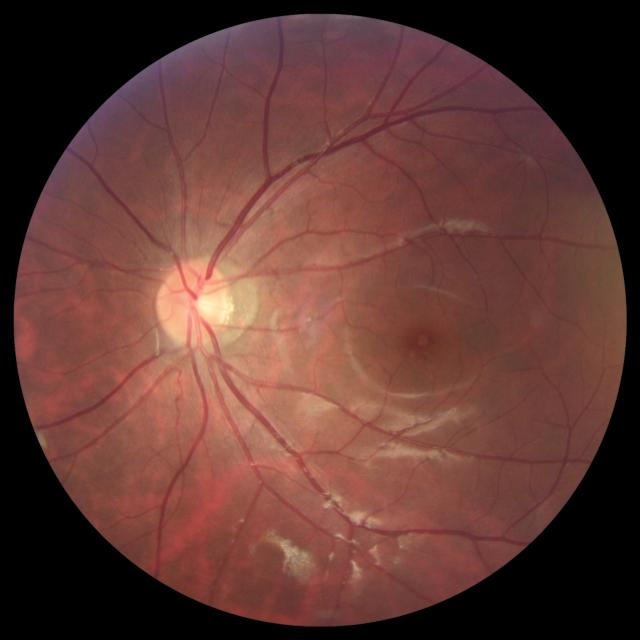OC: (186, 287, 218, 322)
OD: (157, 261, 230, 345)
